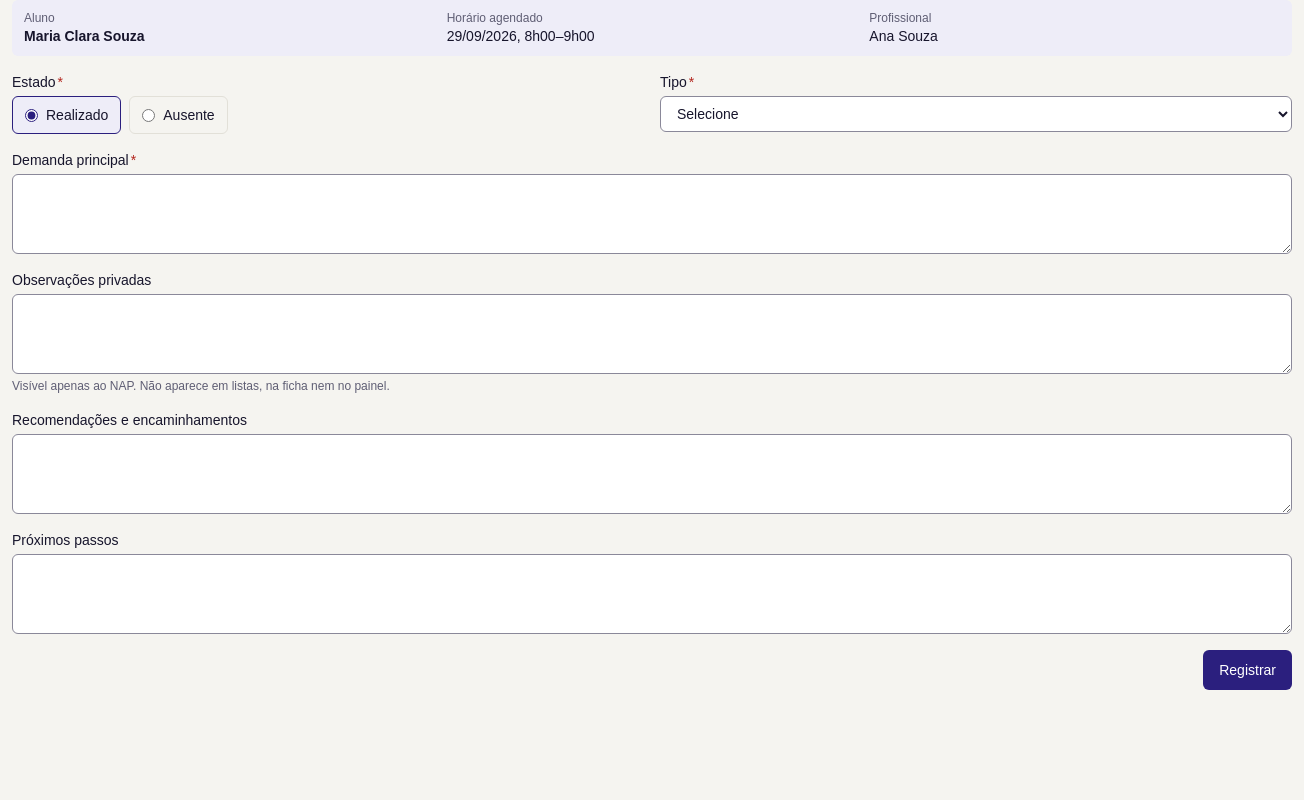
AtendimentoForm › Rotulo_de_orientacao_interna
Select "Orientação acadêmica" in the dropdown labelled "Tipo*": x=976, y=114 [660,96,1292,132]
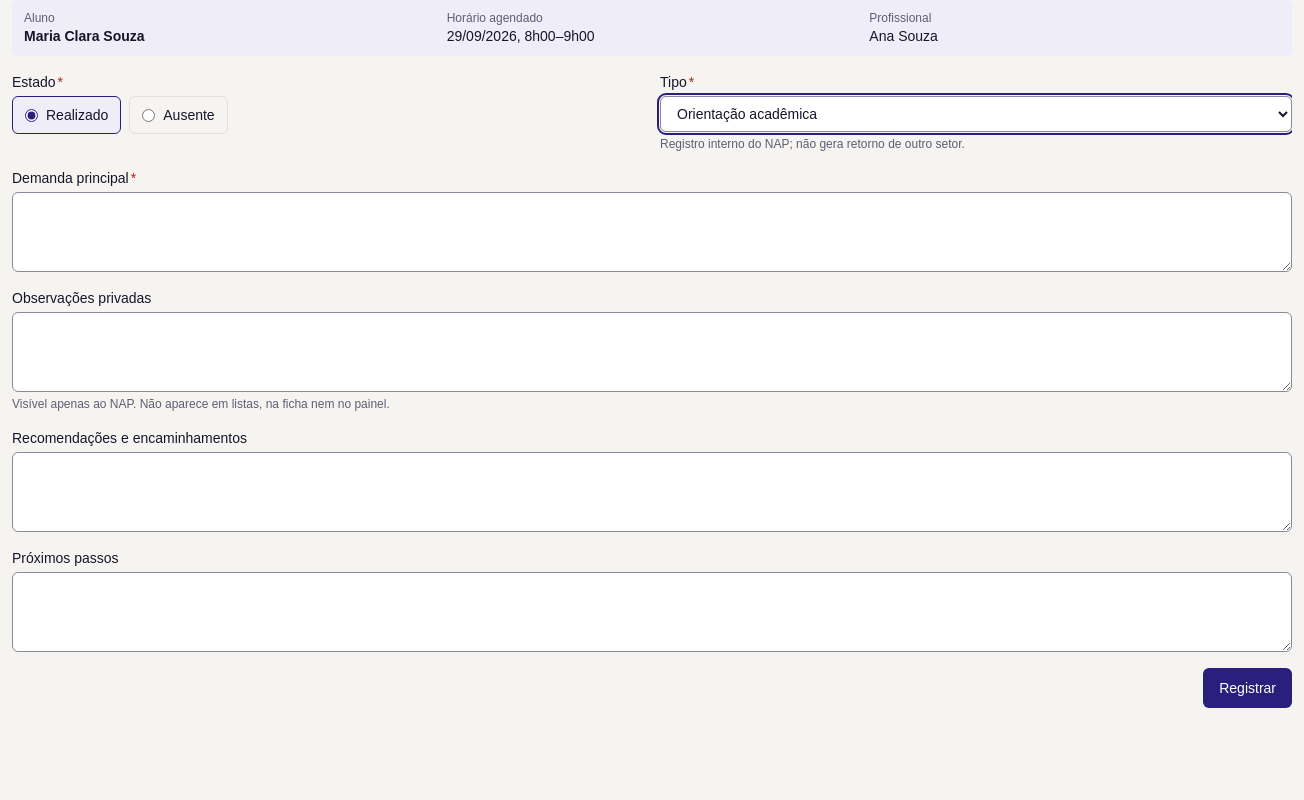
Now the text "Registro interno do NAP; não gera retorno de outro setor." is shown, box [660,137,965,151]
